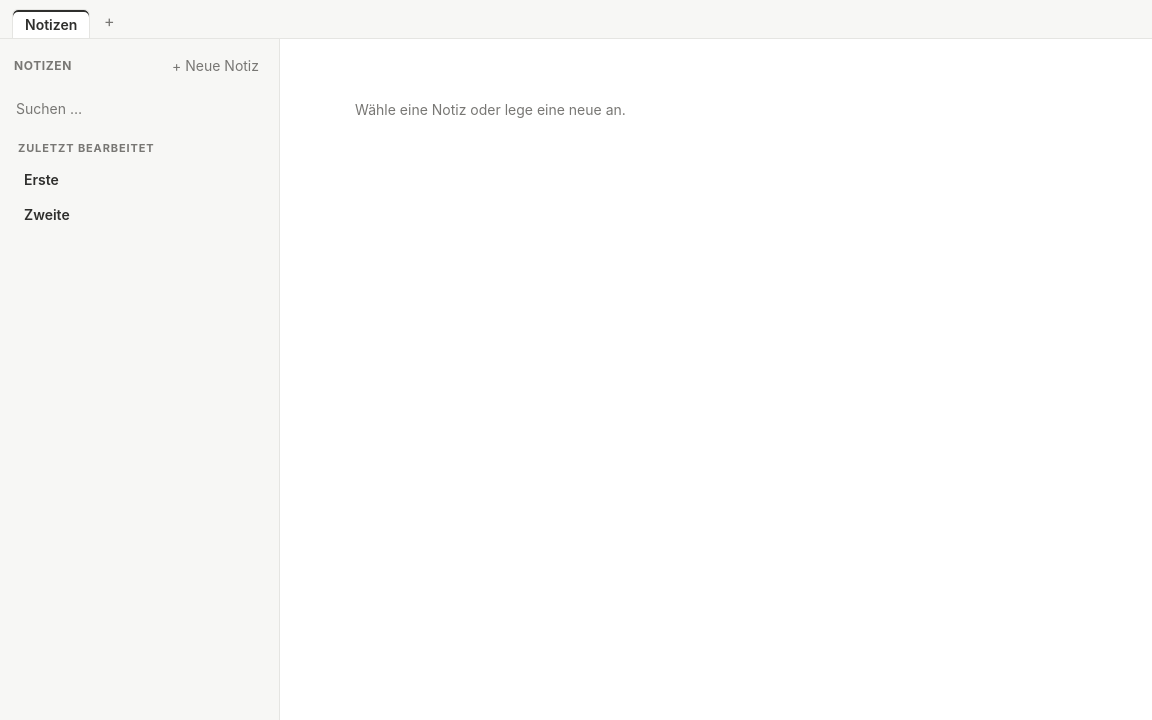
Scenario: Tab-Leiste › schließt Tabs; der vorherige wird aktiv, zuletzt der Startpunkt
Click the button "Erste". click: (140, 180)
box: [14,163,265,196]
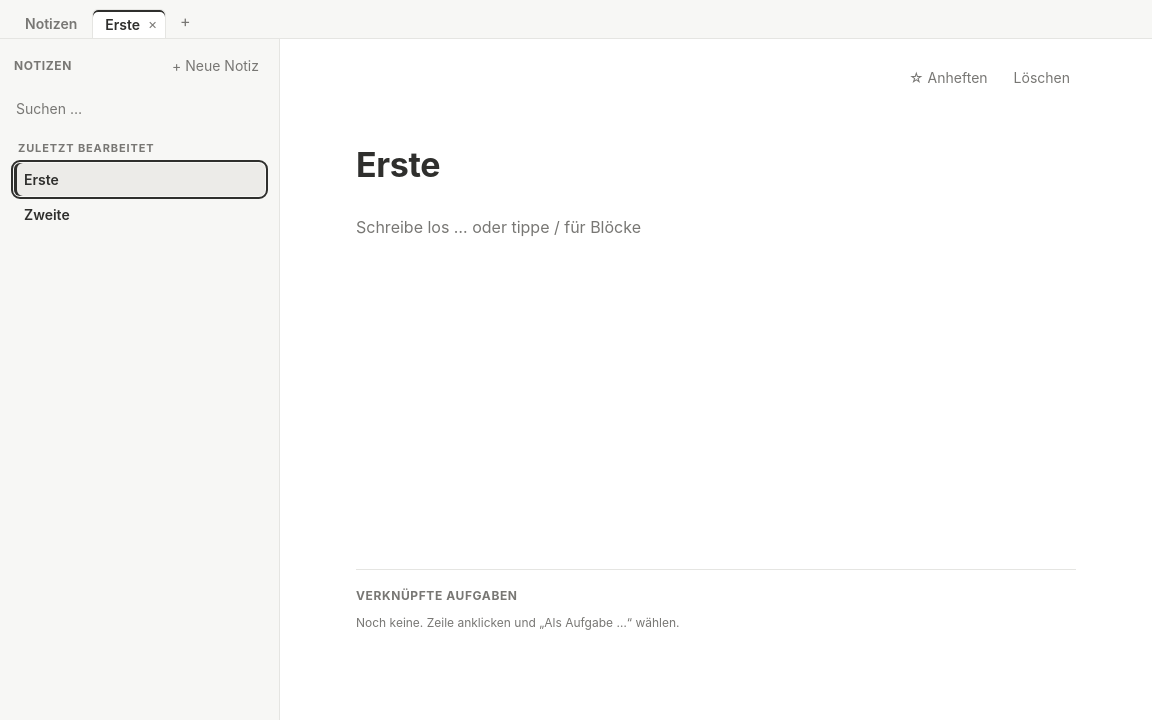
Click the button "Zweite". click: (140, 214)
box: [14,198,265,231]
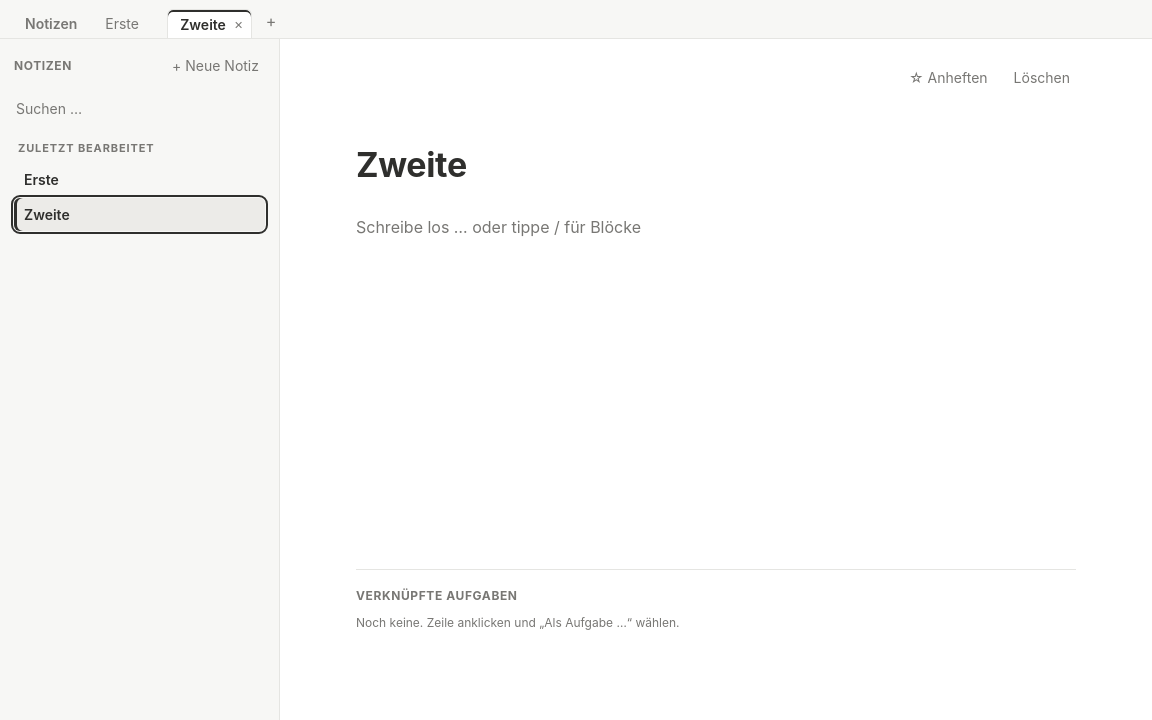
Click the button named "Zweite schließen". click: (240, 24)
box: [230,16,251,34]
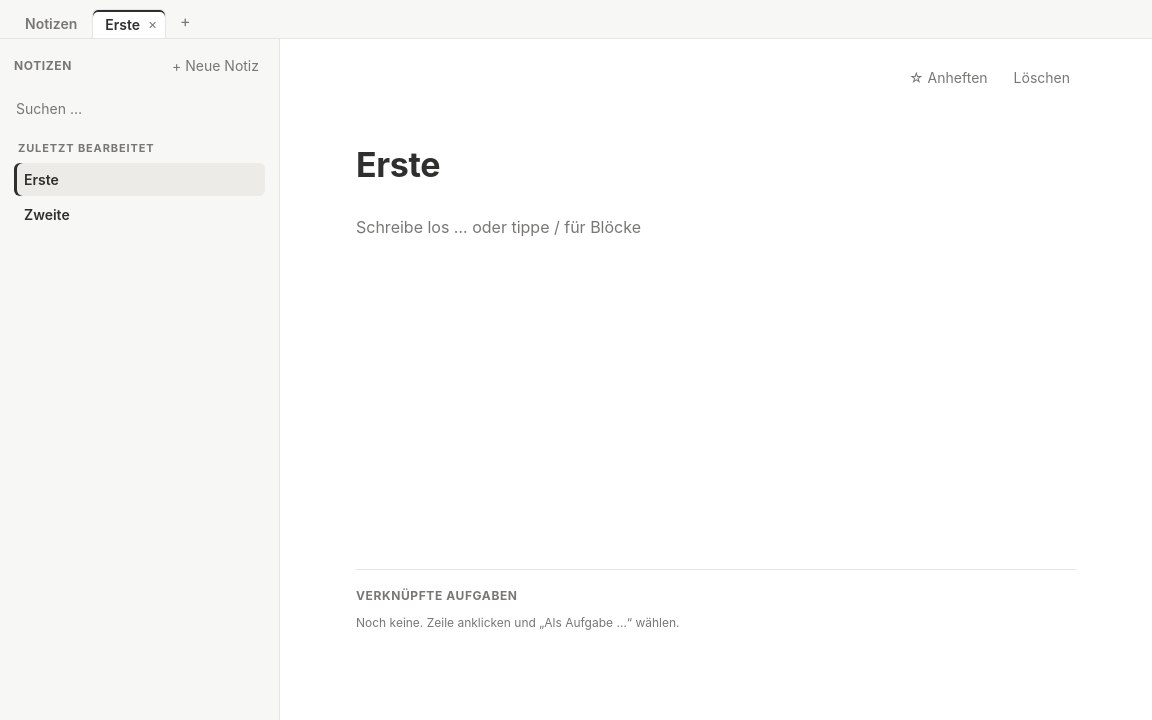
Check: the tab "Erste" is selected, box [93,10,144,39]
Click the button named "Erste schließen". click: (155, 24)
box: [144,16,165,34]
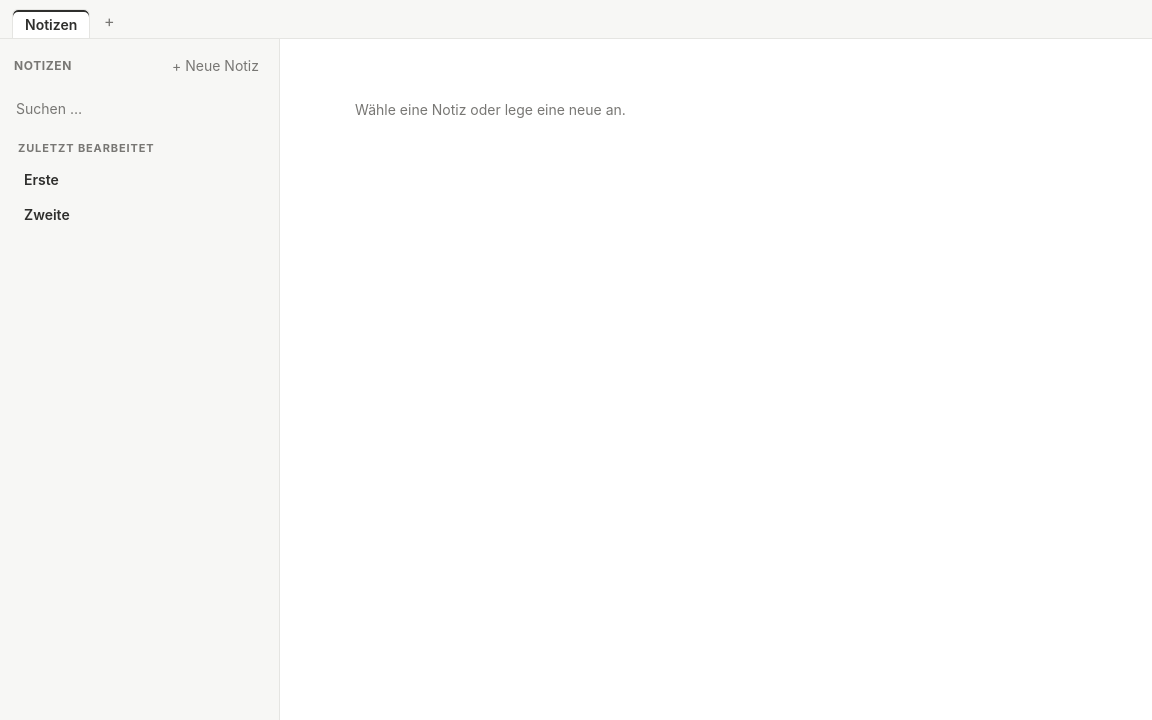
Check: the text "Wähle eine Notiz oder lege eine neue an." is shown, box [355,101,626,118]
